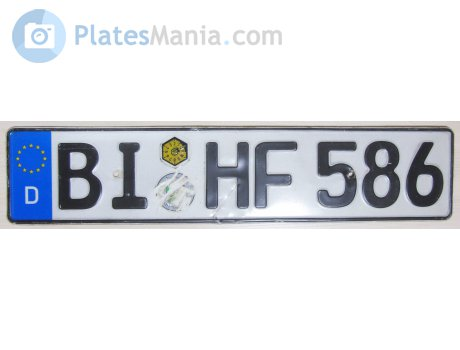License Plates: (53, 136, 442, 209)
